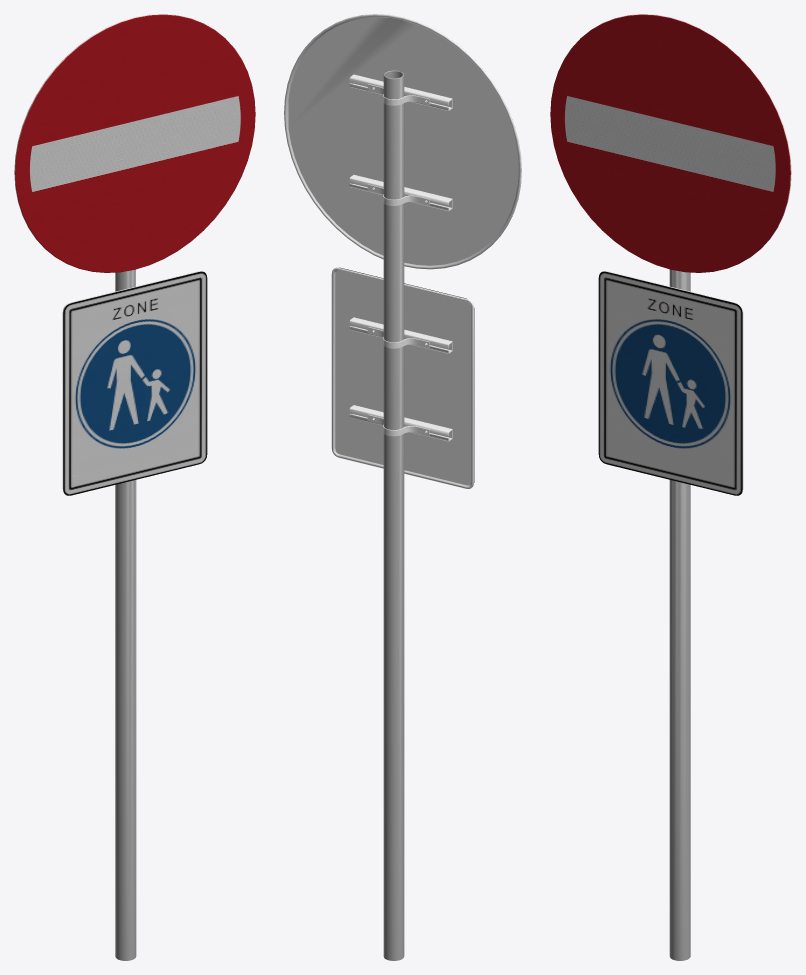
File: sign-eu-05.glb
The picture shows the model from 3 angles, left to right: view 1: azimuth 30°, elevation 25°; view 2: azimuth 150°, elevation 25°; view 3: azimuth 330°, elevation 25°; orthographic projection.
Visible parts, largest first — view 1: vm_ST_sign_05; view 2: vm_ST_sign_05; view 3: vm_ST_sign_05.
Boxes of the visible parts, <box> form: vm_ST_sign_05: <box>14,14,255,960</box>; vm_ST_sign_05: <box>284,14,521,960</box>; vm_ST_sign_05: <box>550,14,791,960</box>.
Size of the model in its own units: 0.7677 by 2.88 by 0.0845.
4 materials, 2 textured.
